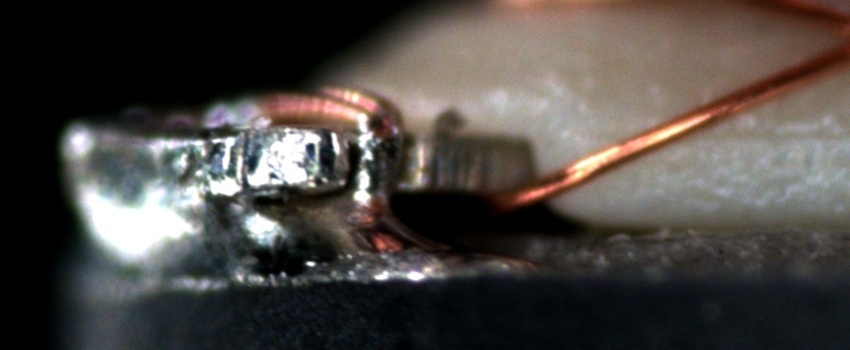DL: (592, 106, 849, 165)
TE: (226, 72, 404, 128)
